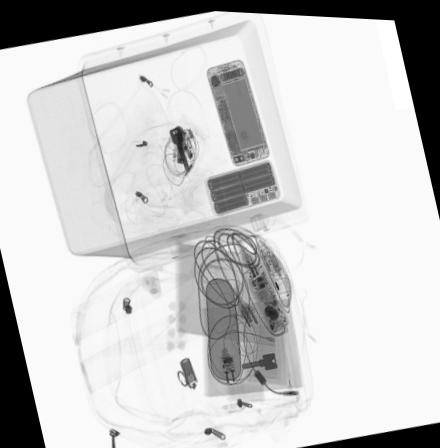Powerbank: (203, 157, 280, 215)
